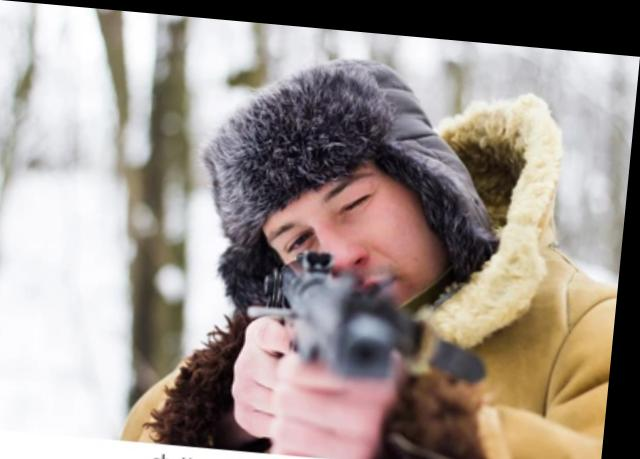other: (211, 48, 519, 458)
